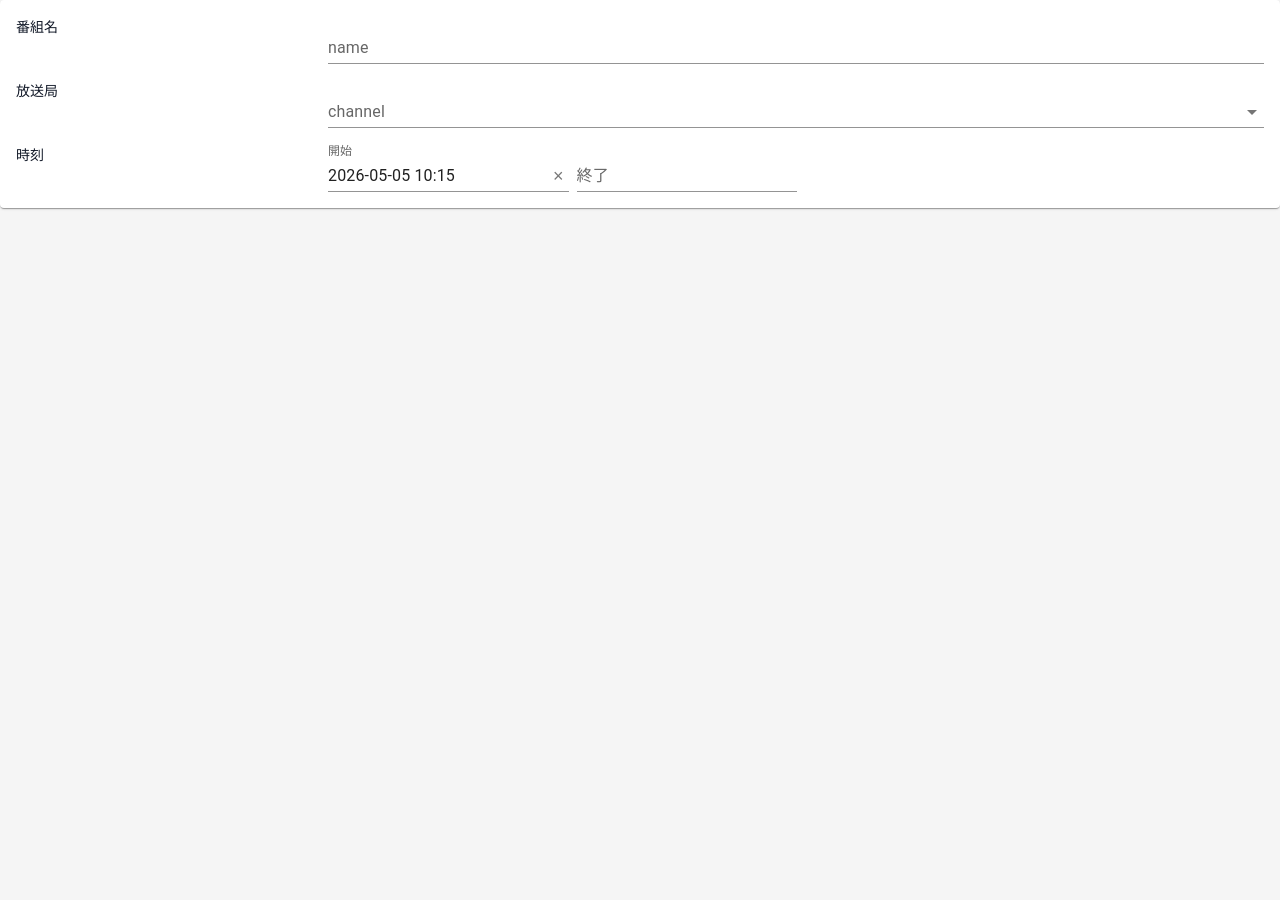
Scenario: ManualTimeSpecifiedFields date-time picker dialog › [AC 4.23] opens a Monday-first Japanese calendar from the start field and commits the picked day with the same time
Click the field labelled "開始": (438, 176) [328,160,548,192]
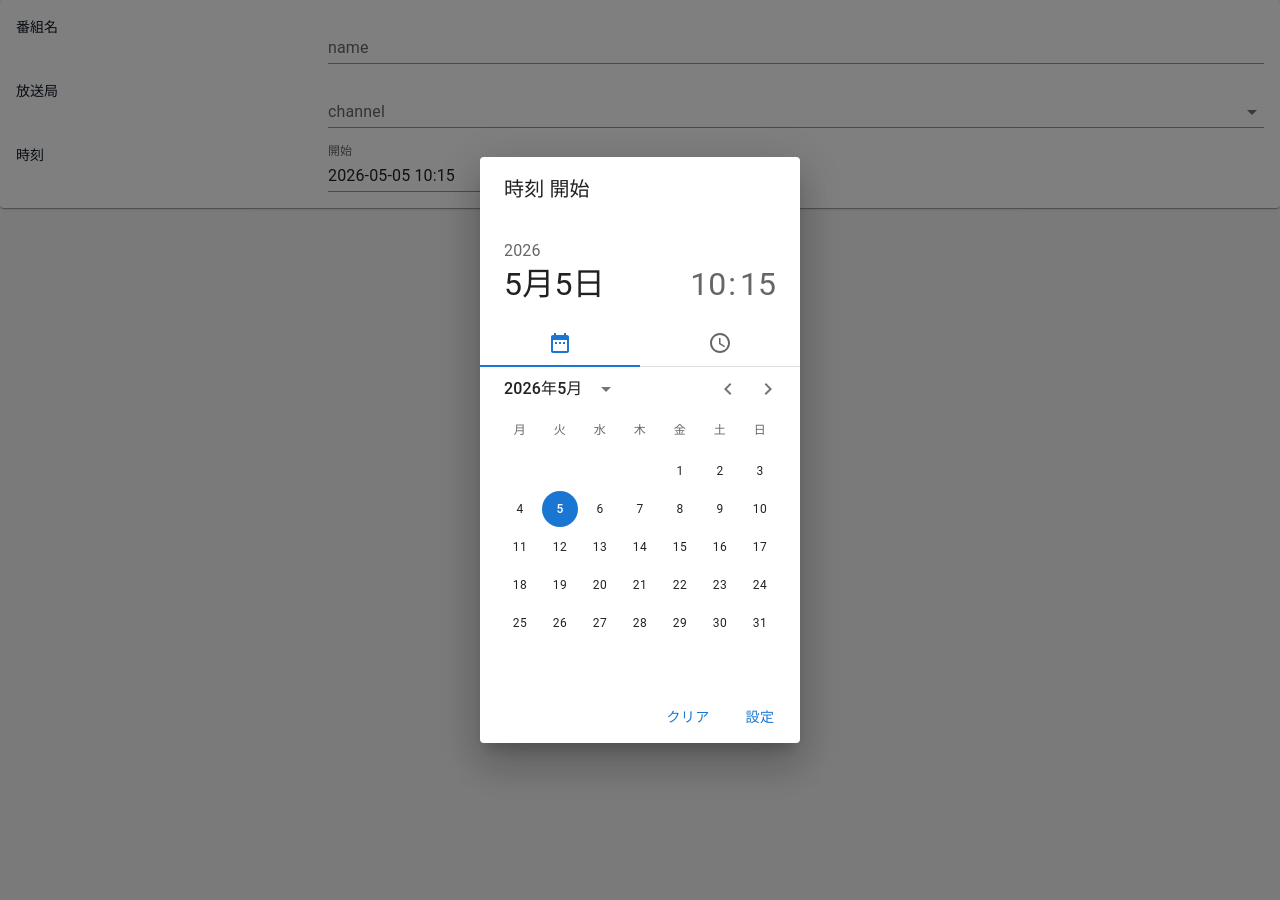
Click the cell "20": (600, 585) [582,567,618,603]
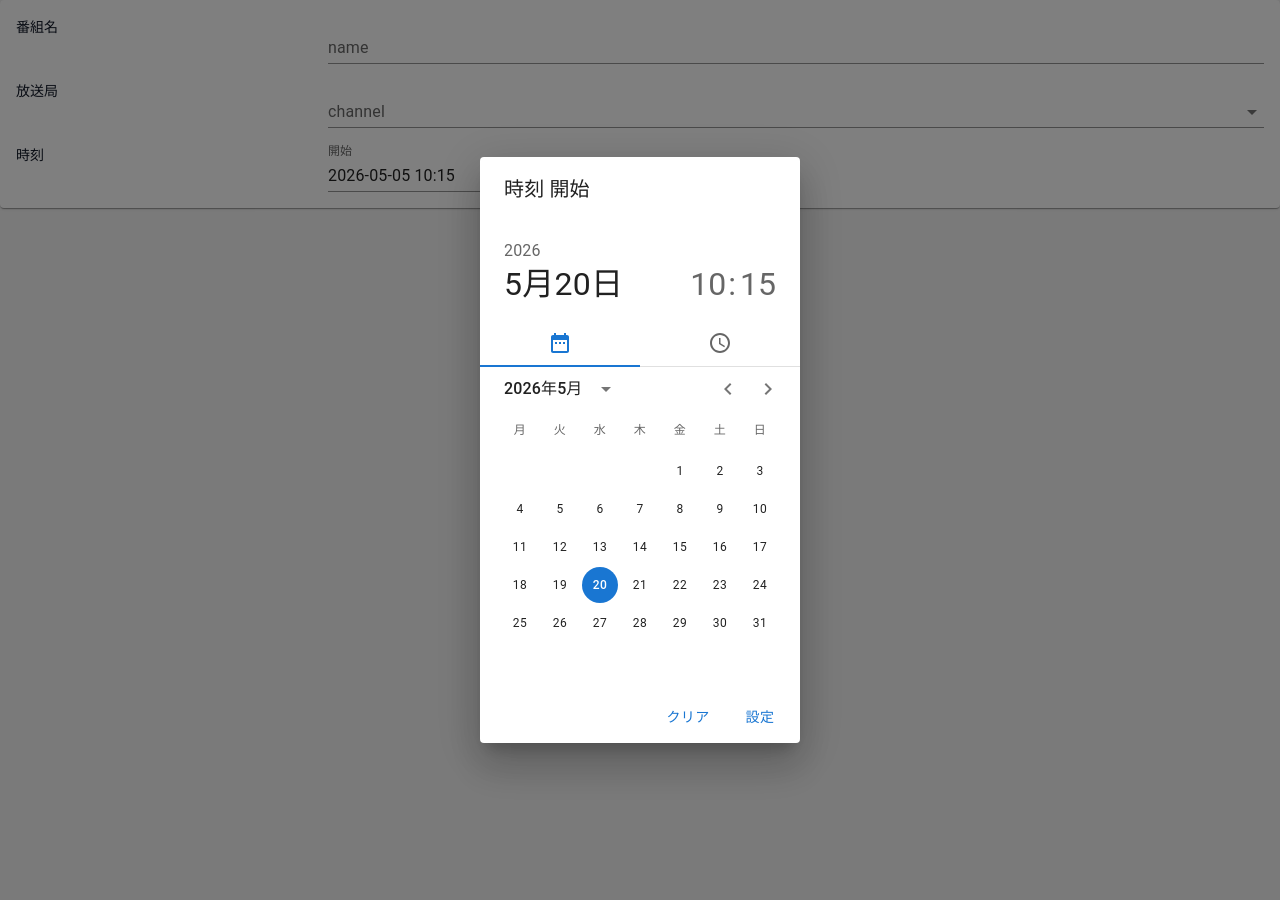
Click the button "設定": (760, 717) [728,699,792,735]
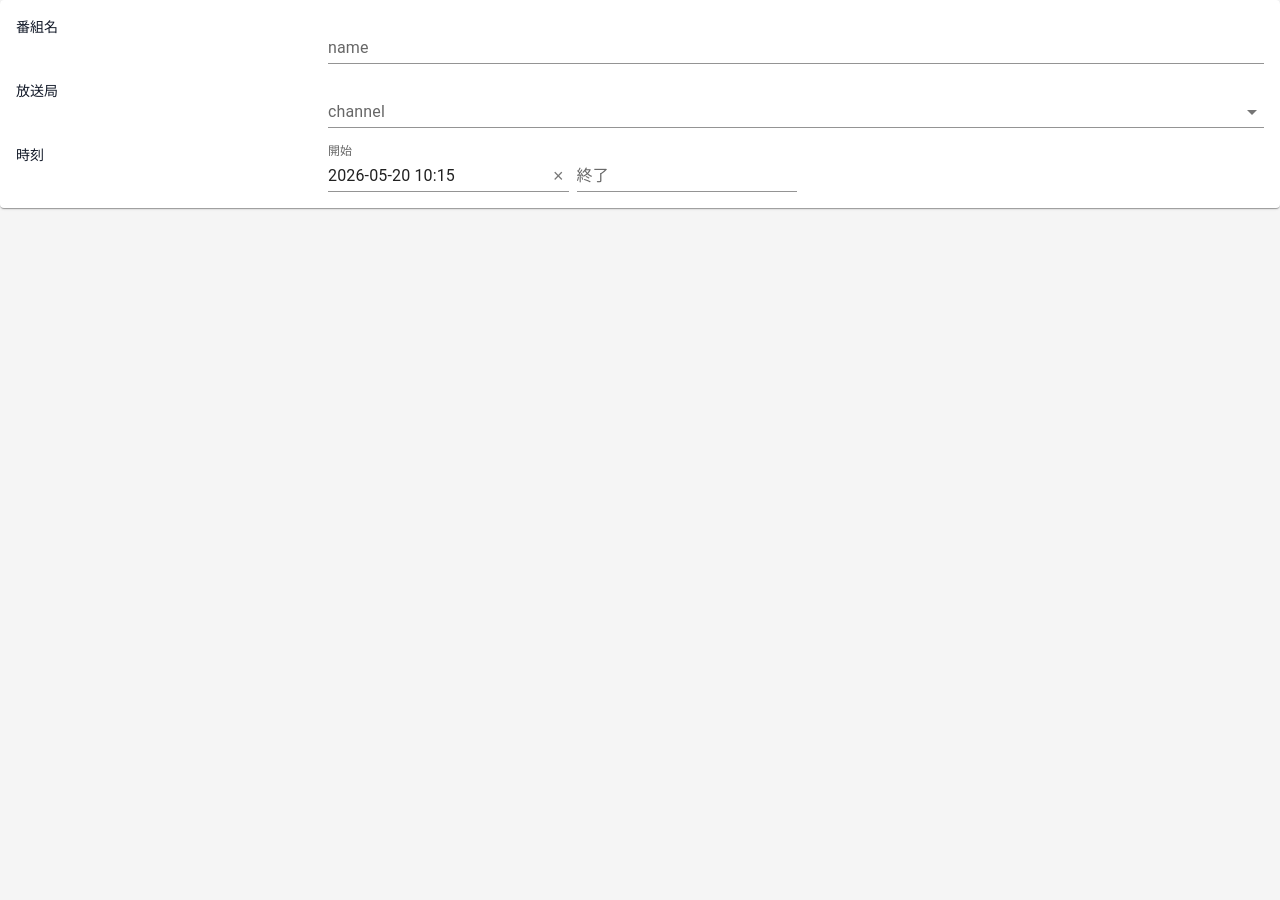
Check: the field labelled "開始" holds "2026-05-20 10:15", box [328,160,548,192]
